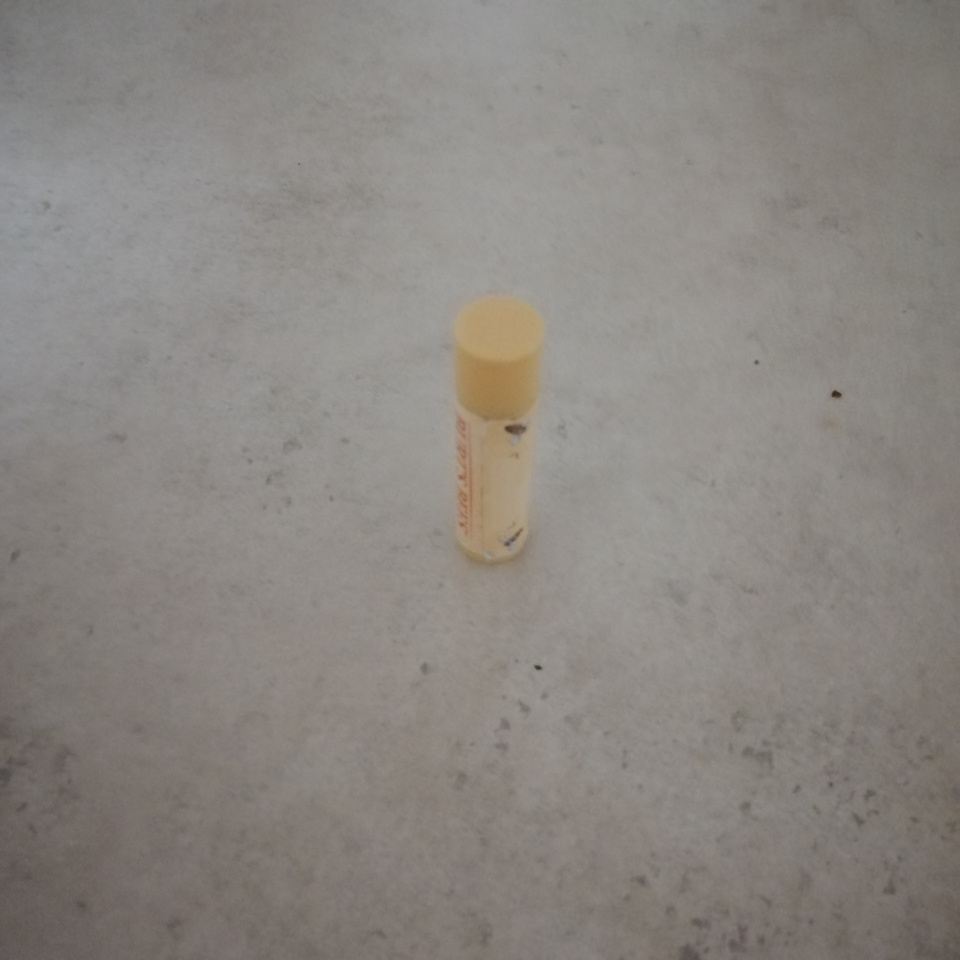chapstick: (453, 296, 542, 566)
